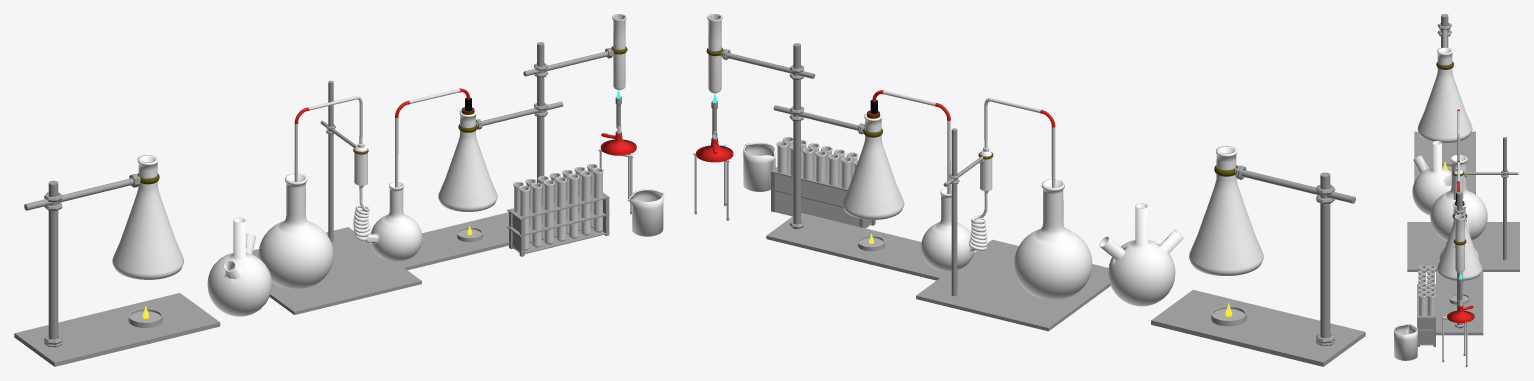
File: chem_set.fbx
3 views of the same model, side by side, from view 1: azimuth 30°, elevation 25°; view 2: azimuth 150°, elevation 25°; view 3: azimuth 270°, elevation 25° (orthographic). The views are drawn at different scales.
Visible parts, largest first — view 1: Cube, Cube.001, Sphere.001, Cylinder.005, Cylinder, Sphere.002, Cylinder.134, Cube.096, Sphere.006, Cube.002, Cylinder.006, Circle (+9 smaller); view 2: Cube.001, Cube, Sphere.001, Cylinder.005, Cube.096, Sphere.002, Cylinder.134, Cube.006, Sphere.006, Cylinder.001, Cylinder.006, Cylinder.010 (+10 smaller); view 3: Cube.001, Cylinder.005, Cube.096, Sphere.001, Sphere.002, Cube, Cylinder.134, Circle, Cube.002, Cylinder.141, Cylinder.003, Cylinder.013 (+9 smaller).
Part boxes in pixels (bbox=[...]): Cube: bbox=[14, 293, 220, 366]; Cube.001: bbox=[252, 227, 421, 314]; Sphere.001: bbox=[258, 173, 333, 288]; Cylinder.005: bbox=[112, 155, 183, 279]; Cylinder: bbox=[519, 168, 603, 250]; Sphere.002: bbox=[207, 217, 271, 316]; Cylinder.134: bbox=[438, 110, 497, 211]; Cube.096: bbox=[396, 212, 509, 270]; Sphere.006: bbox=[364, 182, 422, 261]; Cube.002: bbox=[507, 192, 609, 256]; Cylinder.006: bbox=[48, 180, 58, 339]; Circle: bbox=[628, 189, 664, 236]; Cube.001: bbox=[916, 239, 1110, 331]; Cube: bbox=[1151, 289, 1365, 366]; Sphere.001: bbox=[1014, 179, 1092, 299]; Cylinder.005: bbox=[1189, 146, 1263, 275]; Cube.096: bbox=[766, 213, 948, 280]; Sphere.002: bbox=[1099, 203, 1183, 306]; Cylinder.134: bbox=[842, 113, 904, 219]; Cube.006: bbox=[774, 173, 859, 226]; Sphere.006: bbox=[921, 188, 981, 271]; Cylinder.001: bbox=[776, 141, 858, 188]; Cylinder.006: bbox=[1320, 172, 1330, 338]; Cylinder.010: bbox=[870, 90, 1055, 193]; Cube.001: bbox=[1407, 222, 1519, 271]; Cylinder.005: bbox=[1417, 47, 1472, 142]; Cube.096: bbox=[1436, 270, 1483, 335]; Sphere.001: bbox=[1430, 155, 1487, 240]; Sphere.002: bbox=[1412, 141, 1451, 215]; Cube: bbox=[1414, 131, 1475, 194]; Cylinder.134: bbox=[1437, 203, 1482, 280]; Circle: bbox=[1394, 324, 1417, 360]; Cube.002: bbox=[1417, 284, 1436, 346]; Cylinder.141: bbox=[1454, 214, 1465, 272]; Cylinder.003: bbox=[1447, 278, 1474, 322]; Cylinder.013: bbox=[1503, 137, 1506, 260].
Size of the model in its own units: 1653 by 483 by 381.
